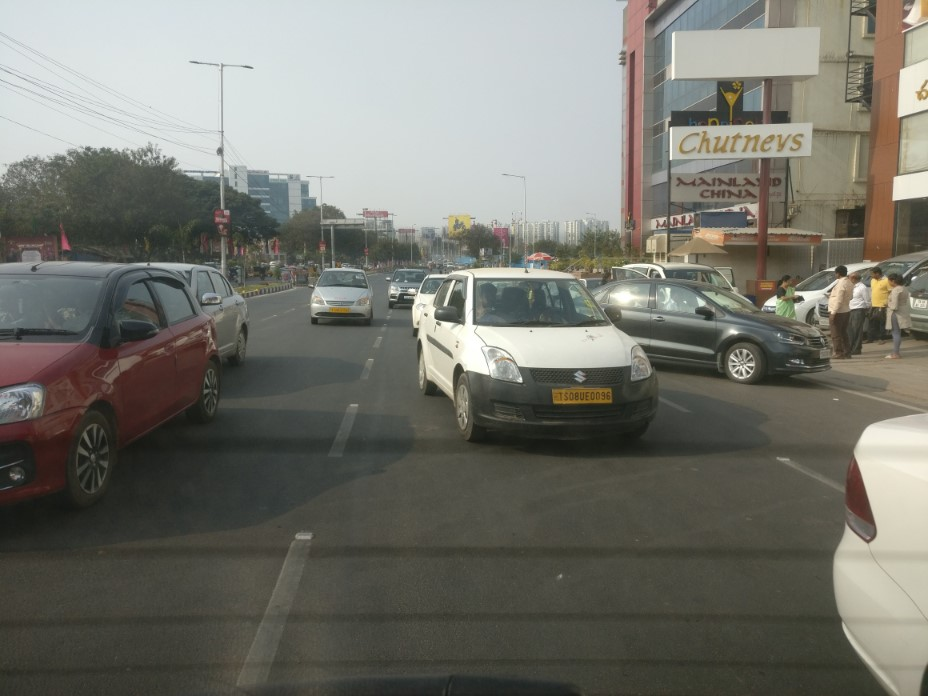swift desire: (416, 277, 656, 451)
